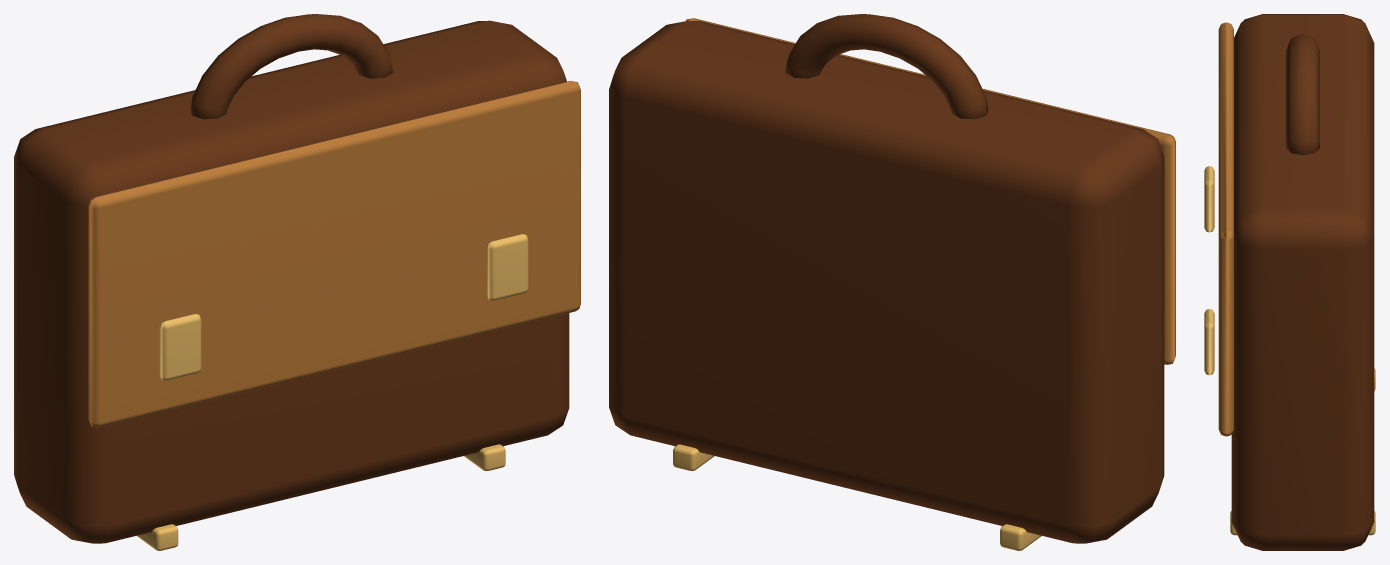
File: 04_Briefcase.glb
3 renders of one model, left to right at view 1: azimuth 30°, elevation 25°; view 2: azimuth 150°, elevation 25°; view 3: azimuth 270°, elevation 25°, orthographic. The views are drawn at different scales.
Visible parts, largest first — view 1: 04_Briefcase_EXPORT; view 2: 04_Briefcase_EXPORT; view 3: 04_Briefcase_EXPORT.
Boxes of the visible parts, x1,y1,x2,y2 form: 04_Briefcase_EXPORT: (14, 14, 580, 550); 04_Briefcase_EXPORT: (609, 14, 1175, 550); 04_Briefcase_EXPORT: (1204, 14, 1375, 550).
Size of the model in its own units: 0.8 by 0.704 by 0.264.
